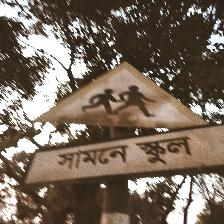School-in-front: (24, 60, 222, 188)
